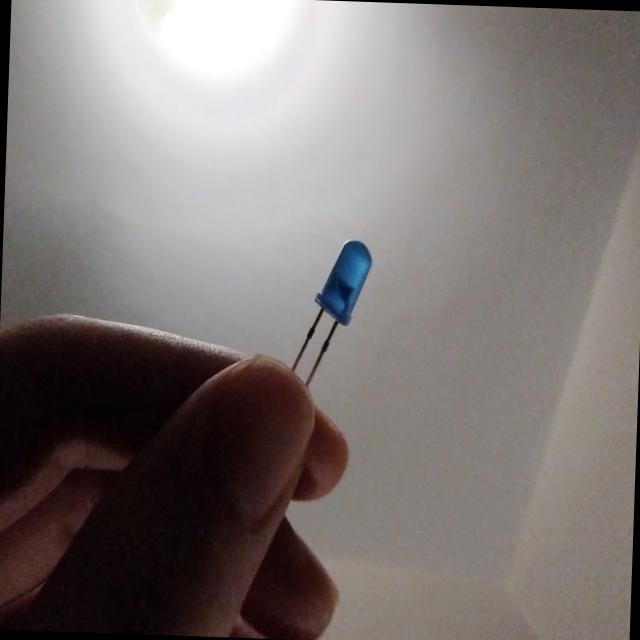blue_led: (292, 224, 374, 422)
